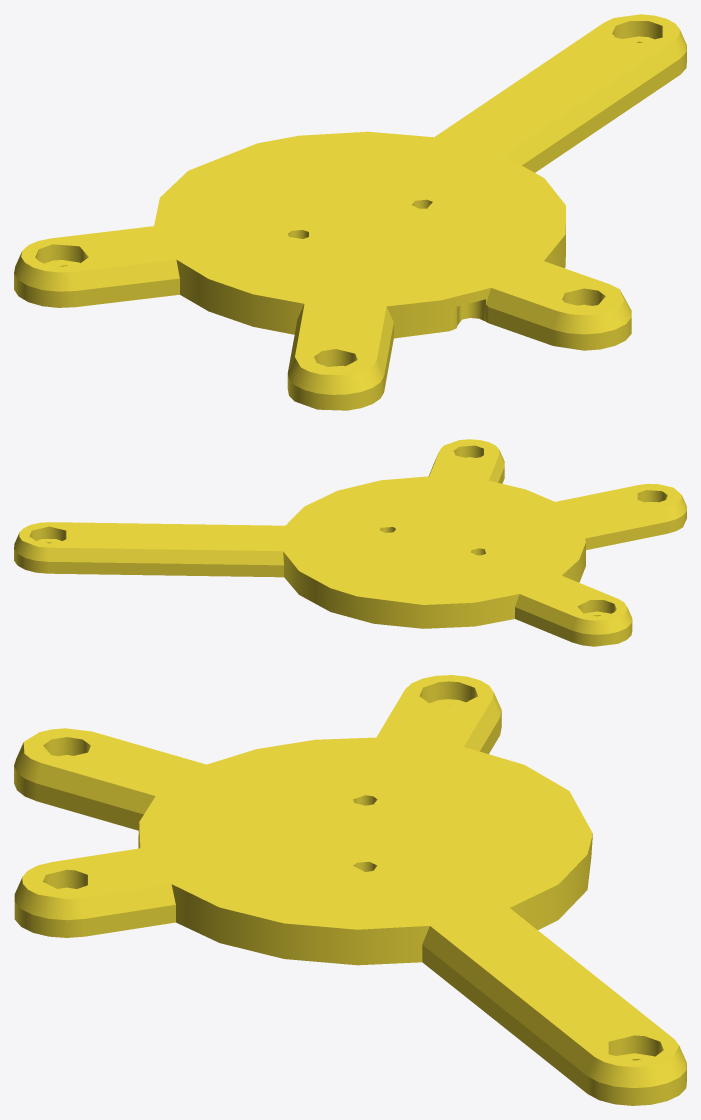
File: tracker_left_mount.glb
3 renders of one model, top to bottom at view 1: azimuth 30°, elevation 25°; view 2: azimuth 150°, elevation 25°; view 3: azimuth 270°, elevation 25°, orthographic. The views are drawn at different scales.
Visible parts, largest first — view 1: Marker Tree Mount; view 2: Marker Tree Mount; view 3: Marker Tree Mount.
Part boxes in pixels (box(x1,y1,x2,y2)): Marker Tree Mount: box(14, 14, 686, 410); Marker Tree Mount: box(14, 439, 686, 646); Marker Tree Mount: box(14, 675, 686, 1105).
Bounding box in the file's own units: 0.1202 × 0.005 × 0.0857.
